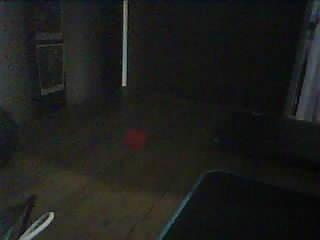lego: (122, 129, 152, 150)
